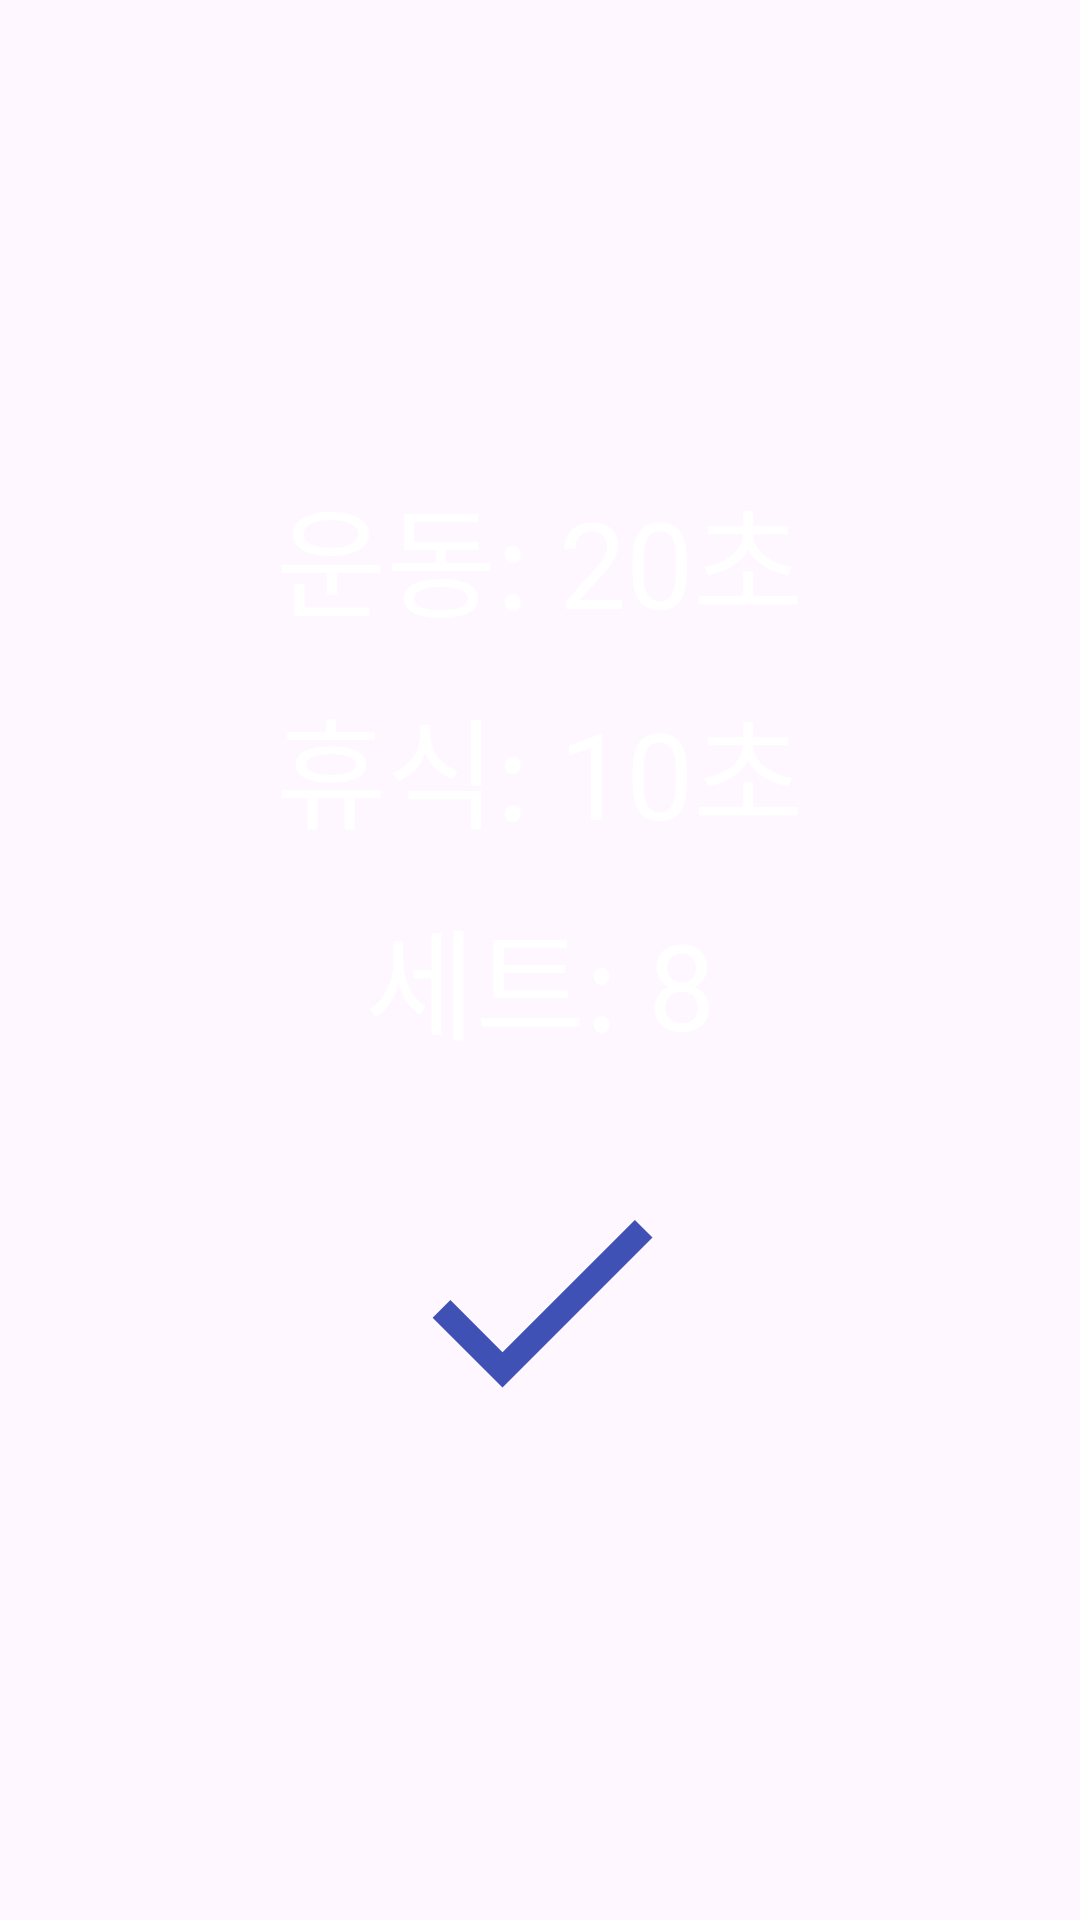

Icons on this 1080px×1920px Android screen, each with its box as (x1, y1, x2, y2):
check: (432, 1220, 653, 1388)
